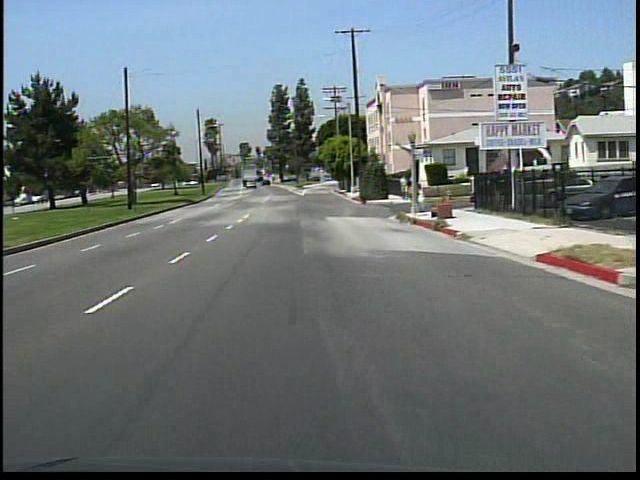person: (412, 179, 425, 215), (397, 174, 409, 199)
